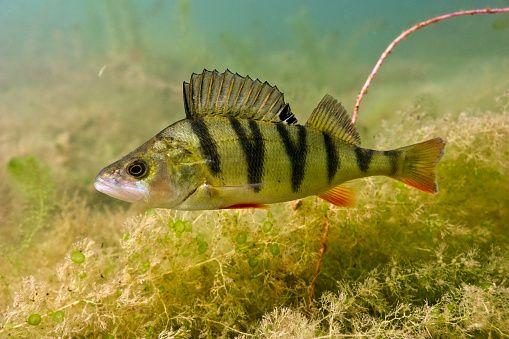Perch: (95, 65, 457, 235)
